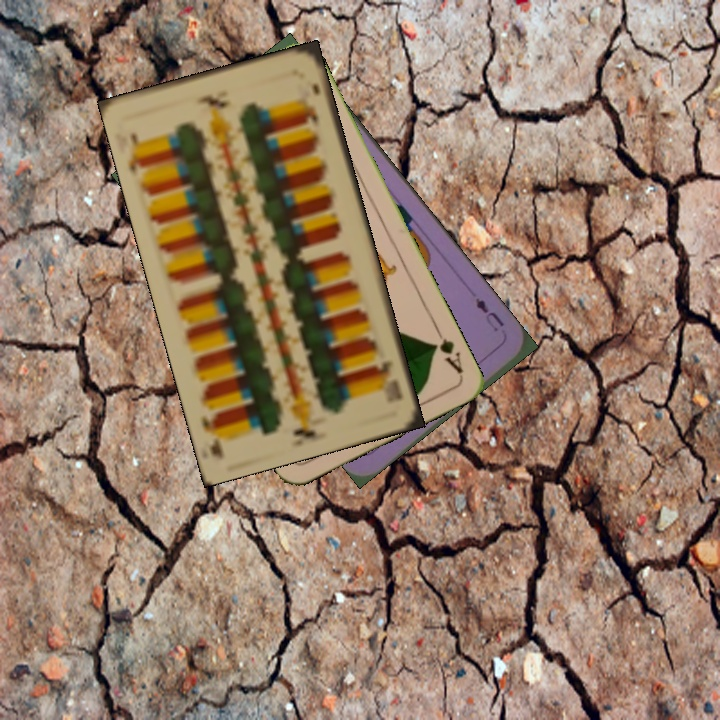E10: (371, 357, 405, 403), (124, 128, 146, 178)
EU: (471, 293, 507, 335)
GA: (428, 322, 466, 377)
